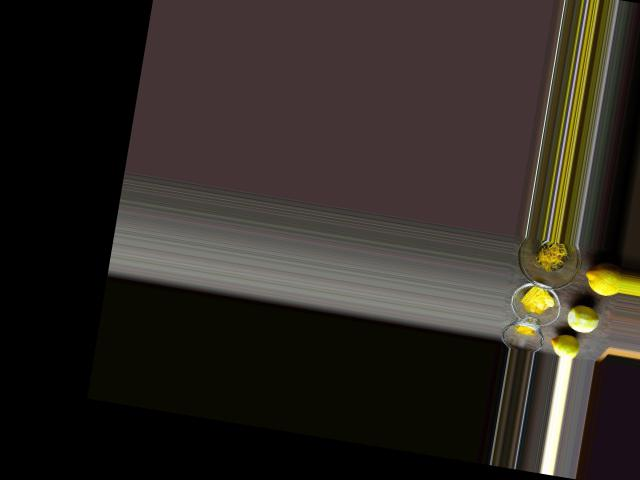lemon: (579, 261, 620, 296)
